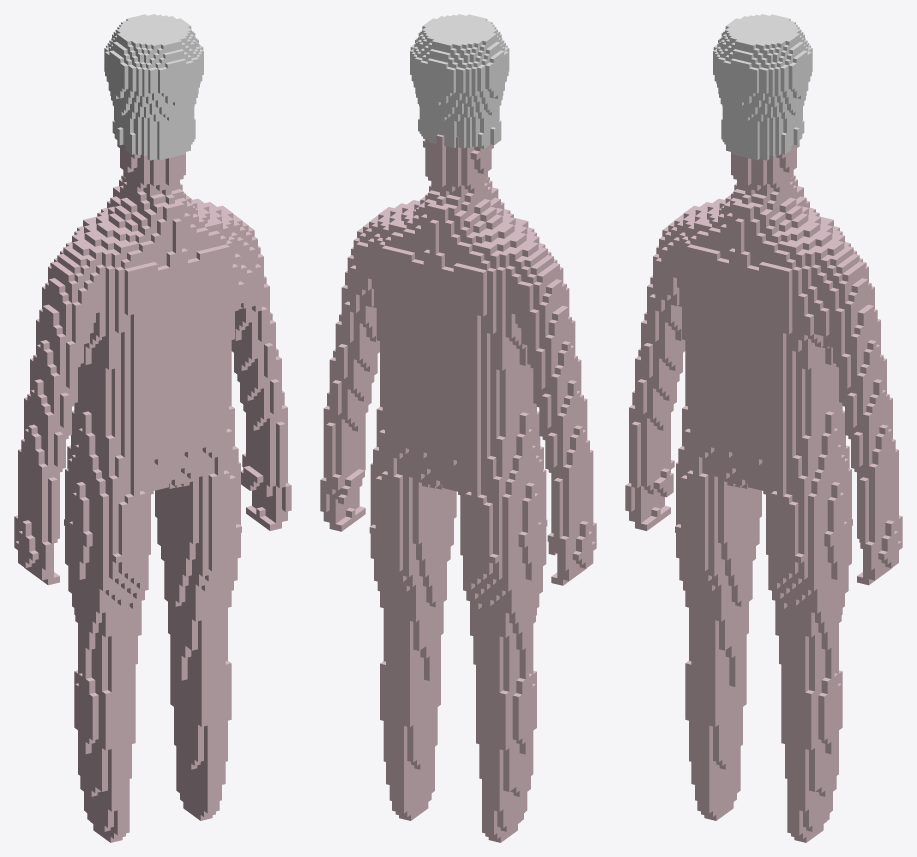
File: Cheff2.fbx
3 views of the same model, side by side, from view 1: azimuth 30°, elevation 25°; view 2: azimuth 150°, elevation 25°; view 3: azimuth 330°, elevation 25° (orthographic).
Visible parts, largest first — view 1: Plane, Cylinder; view 2: Plane, Cylinder; view 3: Plane, Cylinder.
Part boxes in pixels (x1,y1,x2,y2): Plane: [14, 144, 291, 842]; Cylinder: [104, 14, 203, 160]; Plane: [320, 130, 596, 842]; Cylinder: [410, 14, 509, 148]; Plane: [625, 144, 902, 842]; Cylinder: [713, 14, 812, 160].
Size of the model in its own units: 482 by 1421 by 168.
